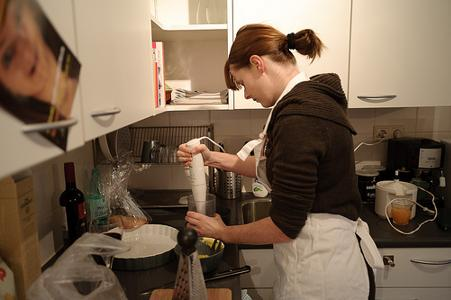person: (183, 25, 378, 300)
